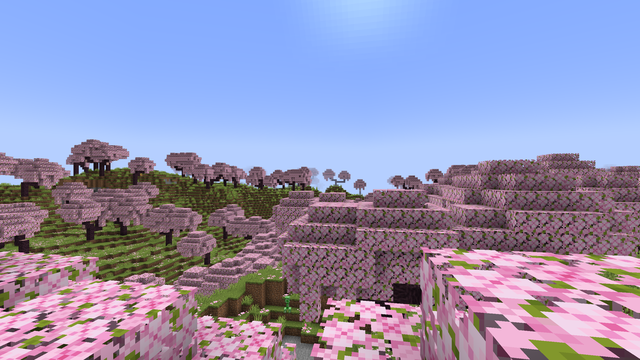creepers: (284, 294, 290, 312)
